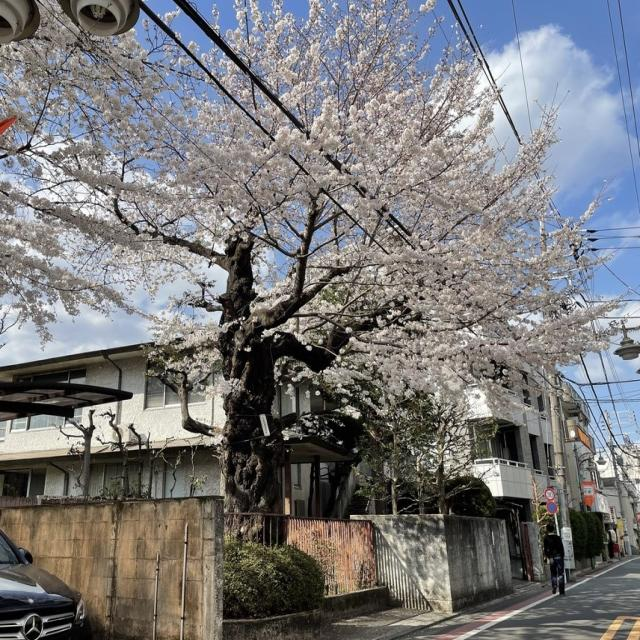sakura: (0, 0, 638, 545)
